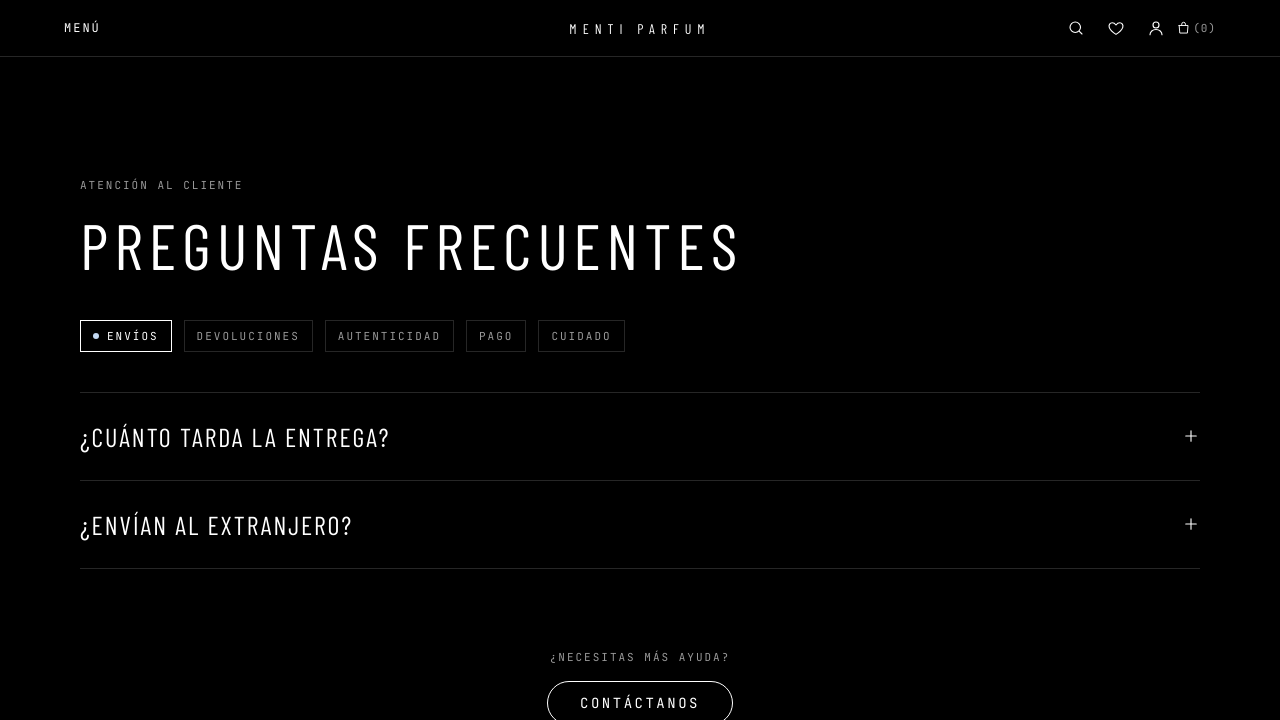
spec 04 · contenido › AC-FAQ-1: chips filtran por categoría
Expected: the button "¿Cuánto tarda la entrega?" is shown, [80,393,1200,480]
What coordinates should you click on to do the following:
click the button "Devoluciones"
I would click on:
 (248, 336)
Its box is [184,320,313,352].
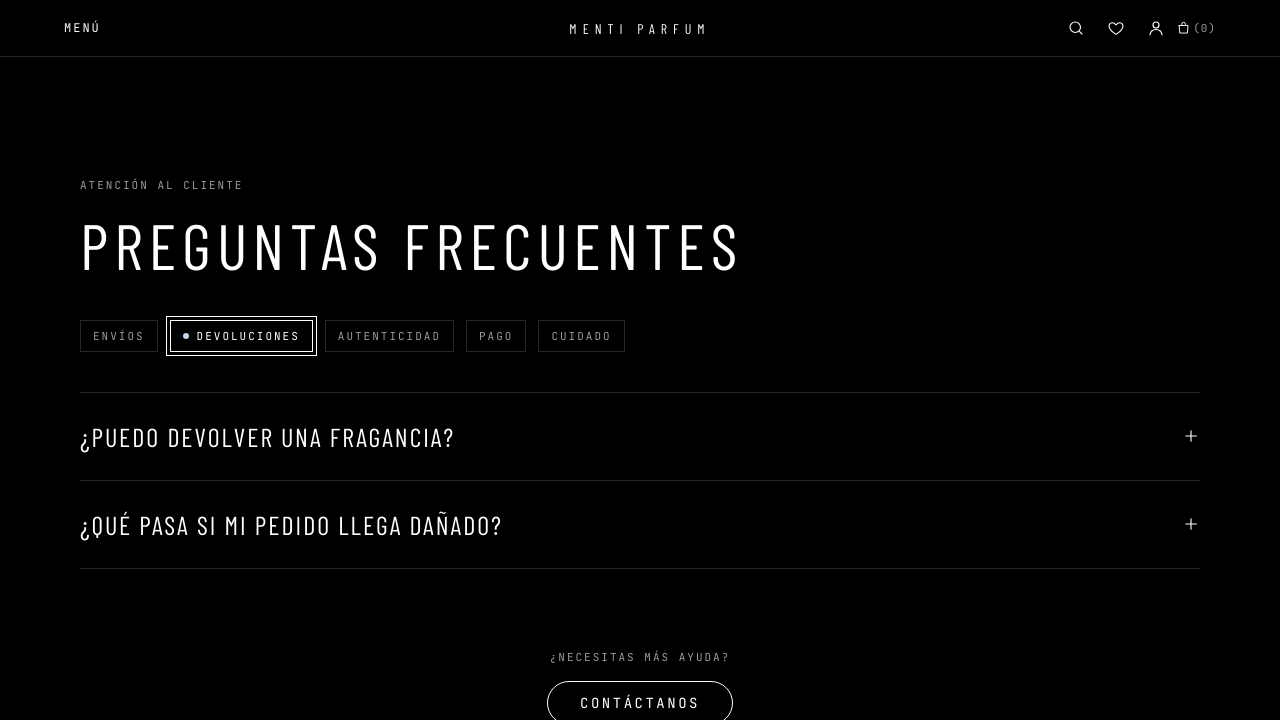
Expected: the button "Cuánto tarda la entrega" is gone
Expected: the button "¿Puedo devolver una fragancia?" is shown, [80,393,1200,480]
